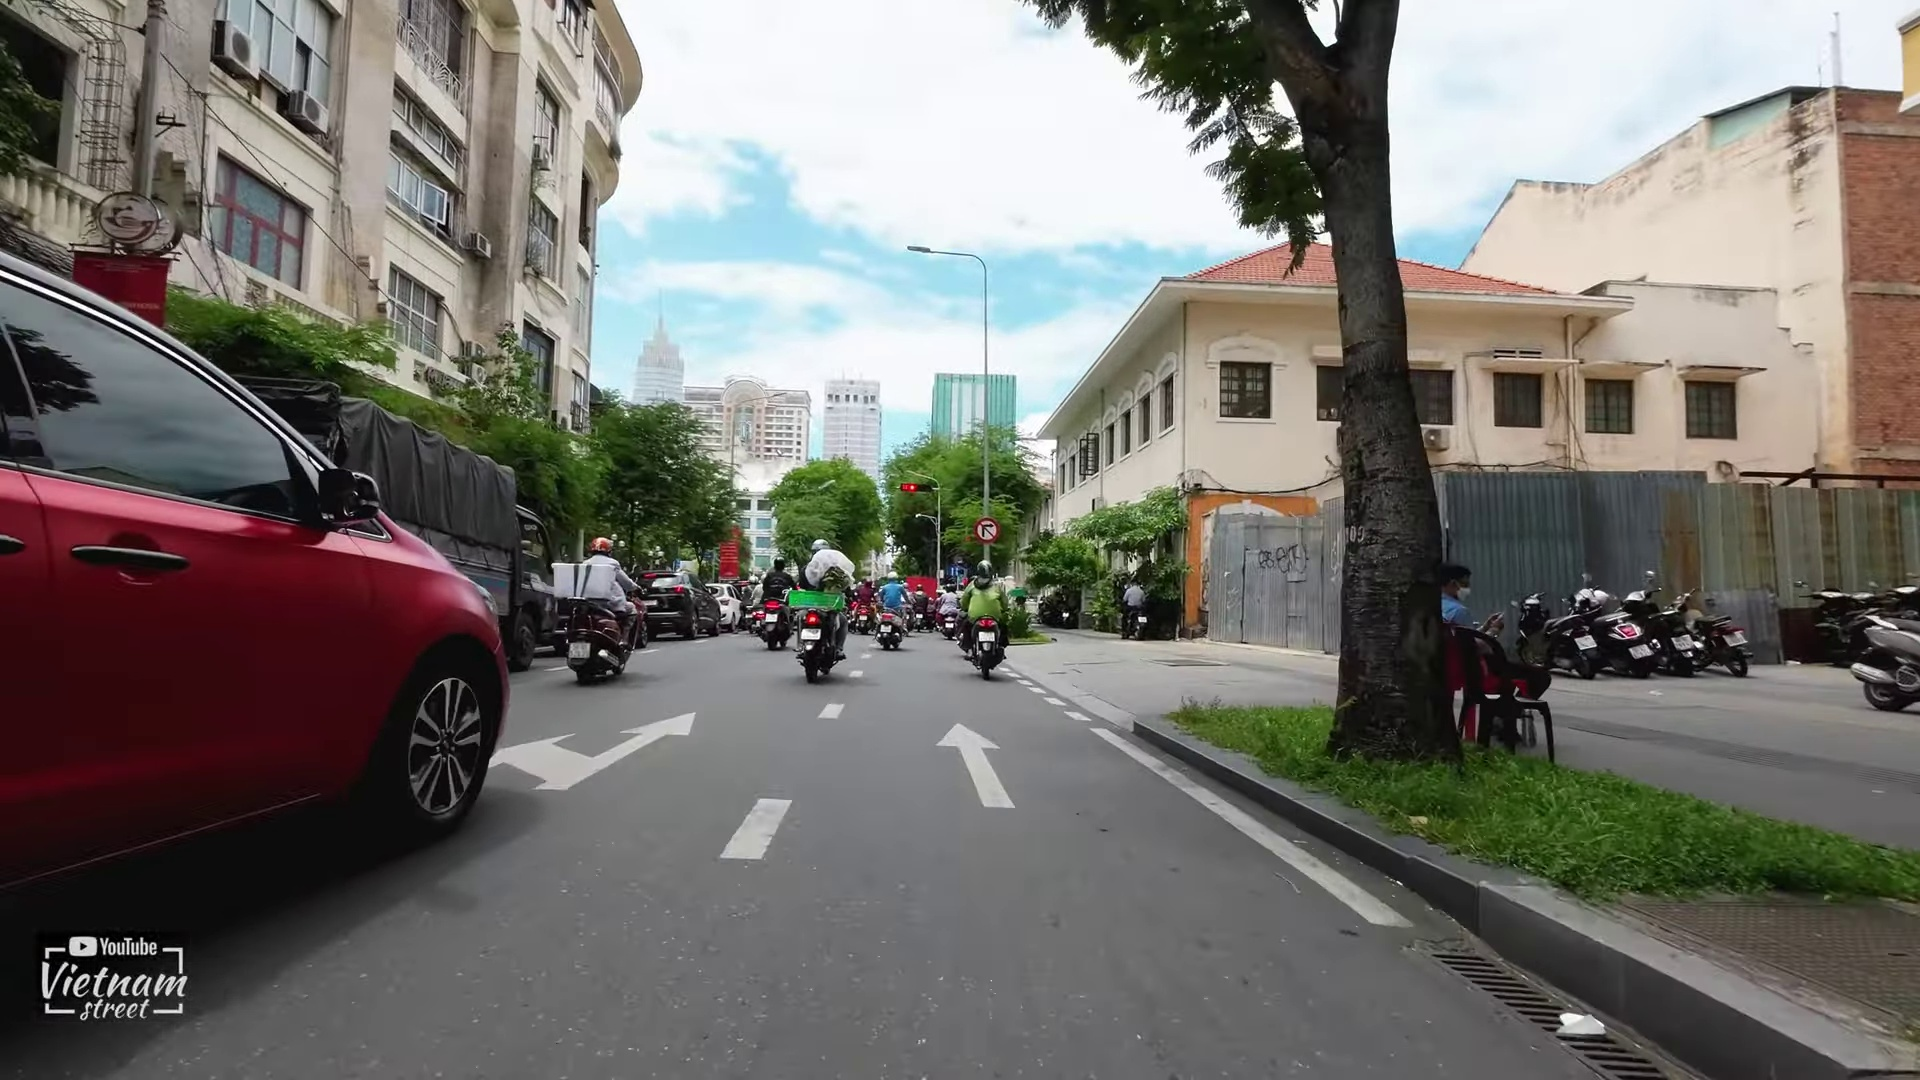cam_re_phai: (973, 518, 998, 545)
